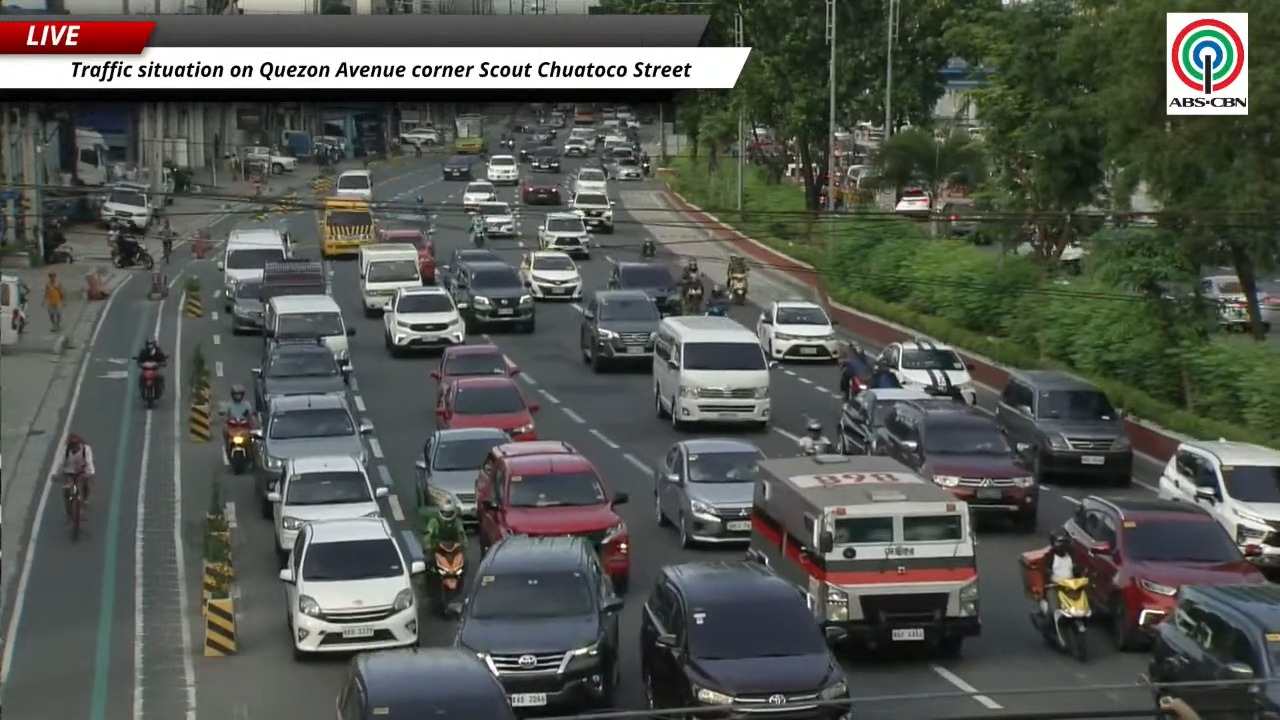bus: (574, 104, 594, 125)
car: (639, 561, 851, 719), (1063, 496, 1266, 650), (455, 536, 622, 710), (477, 452, 630, 593), (875, 401, 1039, 531), (279, 517, 424, 658), (1147, 584, 1279, 718), (996, 370, 1133, 486), (1158, 440, 1279, 570), (251, 395, 372, 518), (268, 455, 388, 565), (336, 647, 516, 719), (654, 438, 762, 548), (415, 427, 509, 522), (252, 340, 347, 411), (579, 290, 660, 372), (877, 337, 976, 403), (437, 376, 538, 440), (834, 388, 930, 454), (450, 262, 535, 333), (382, 286, 464, 354), (430, 343, 519, 403), (756, 300, 839, 360), (479, 440, 579, 482), (607, 261, 679, 314), (379, 228, 435, 284), (520, 250, 582, 299), (1201, 275, 1250, 330), (537, 212, 590, 258), (438, 248, 502, 286), (100, 185, 154, 230), (228, 278, 263, 334), (569, 192, 613, 233), (938, 199, 979, 241), (242, 146, 297, 174), (478, 201, 518, 237), (333, 170, 372, 201), (521, 178, 562, 205), (894, 187, 932, 216), (607, 150, 643, 180), (462, 181, 496, 212), (602, 138, 635, 167), (486, 155, 518, 184), (573, 167, 606, 194), (399, 127, 442, 147), (602, 128, 631, 156), (530, 146, 560, 173), (442, 155, 473, 181), (566, 128, 595, 150), (518, 138, 542, 162), (563, 137, 591, 156), (534, 125, 557, 144)
motorcycle: (1032, 577, 1091, 661), (433, 542, 465, 615), (225, 418, 252, 474), (45, 219, 74, 263), (111, 243, 154, 269), (139, 361, 162, 408), (681, 283, 703, 315), (840, 376, 866, 402), (798, 437, 833, 456), (727, 272, 747, 304), (470, 226, 486, 248), (705, 302, 727, 316), (641, 238, 656, 258), (641, 160, 651, 177), (500, 139, 514, 149)
truck: (747, 454, 980, 656), (319, 196, 376, 258), (260, 258, 328, 305), (74, 127, 110, 186), (454, 114, 485, 153)
